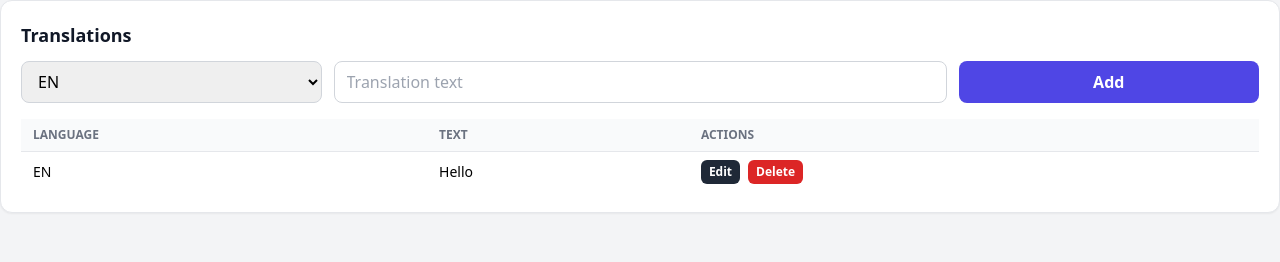
Scenario: Admin translation table › prevents duplicate language translations
Type "Hi again" into the field with placeholder "Translation text" at (640,82), box [334,61,946,103]
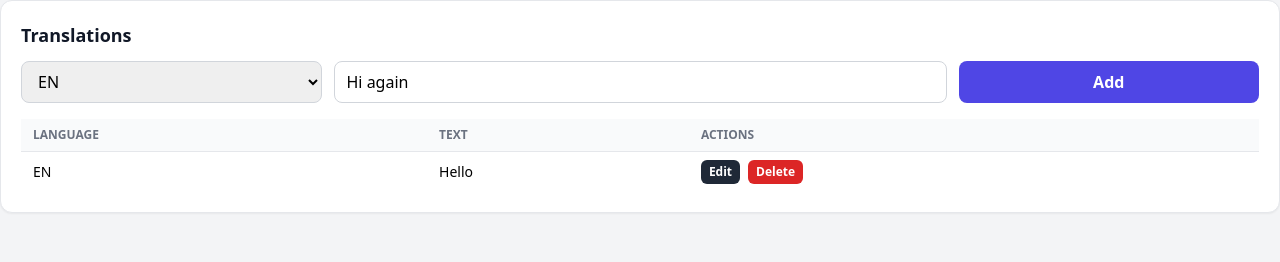
Click the button "Add" at (1109,82), box [958,61,1259,103]
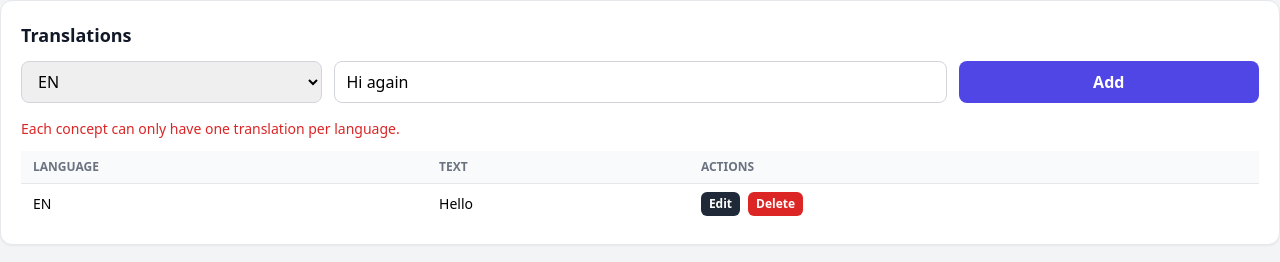
Check: the text "Each concept can only have one translation per language." is shown, box [21,119,400,138]
